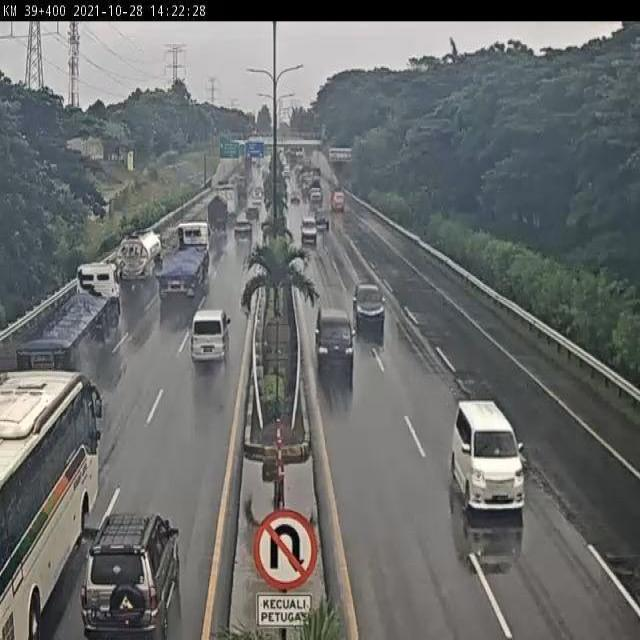bus-l-: (0, 366, 102, 640)
car: (80, 509, 183, 640), (449, 396, 528, 516), (189, 309, 232, 368), (315, 304, 355, 365), (353, 282, 386, 334), (232, 216, 255, 243), (299, 212, 316, 240), (243, 205, 261, 227)
truck-m-: (113, 227, 163, 284)
truck-s-: (203, 196, 228, 240)
truck-xl-: (17, 258, 123, 374), (158, 222, 213, 302)
